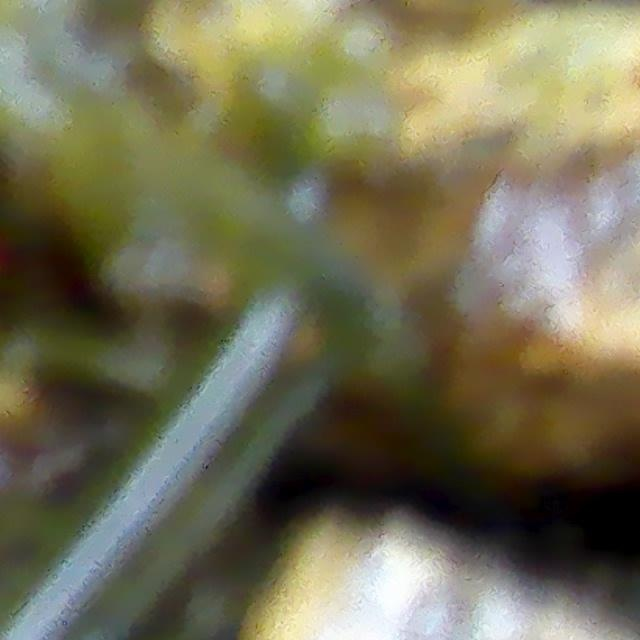SeaGrape: (296, 69, 410, 178), (329, 7, 397, 77)
